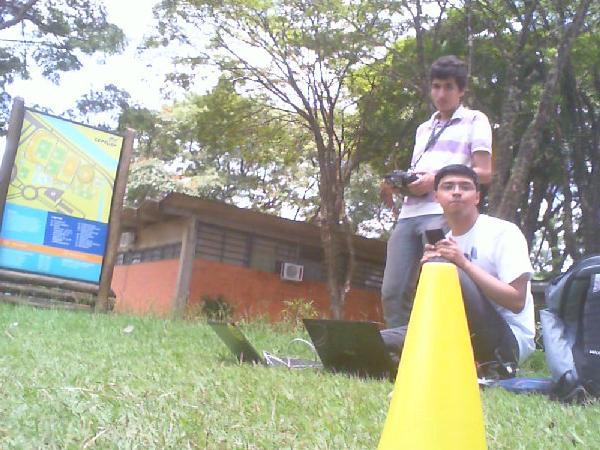0 cone: (370, 262, 492, 450)
